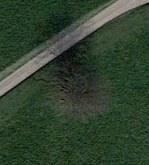tree: (45, 65, 115, 128)
